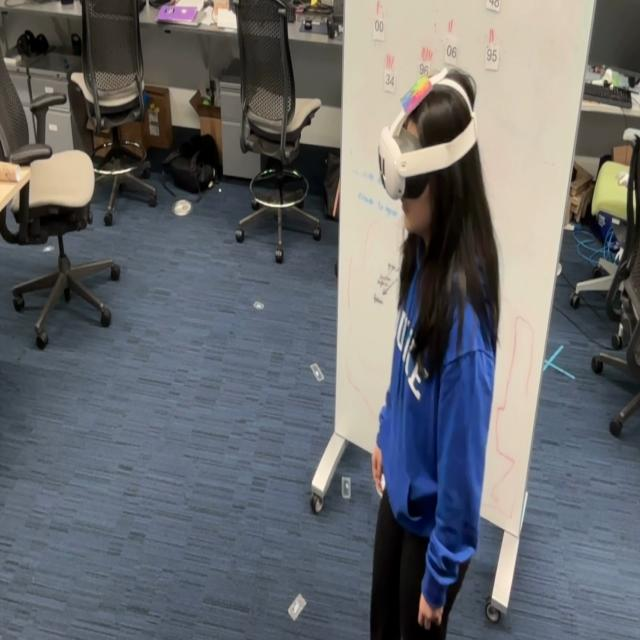Headset: (378, 66, 478, 200)
Marker: (399, 62, 435, 124)
